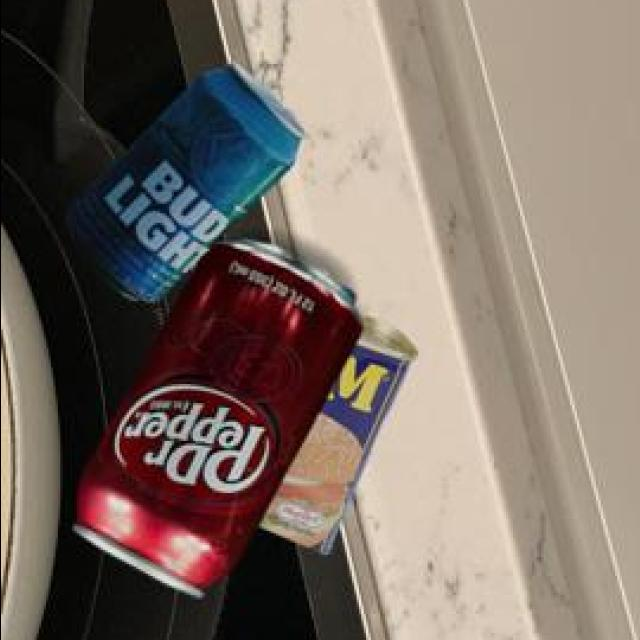logam: (70, 243, 357, 601), (63, 65, 300, 305), (254, 318, 414, 555)
